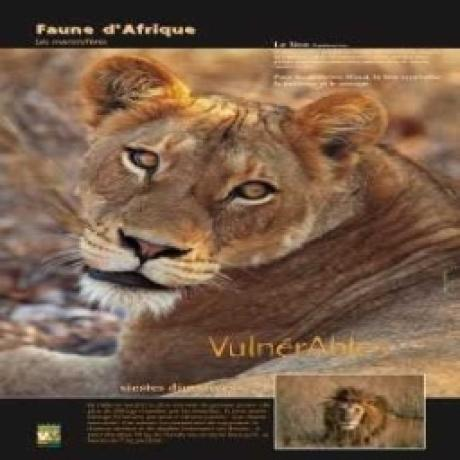Lion: (0, 49, 460, 401), (320, 384, 424, 451)
